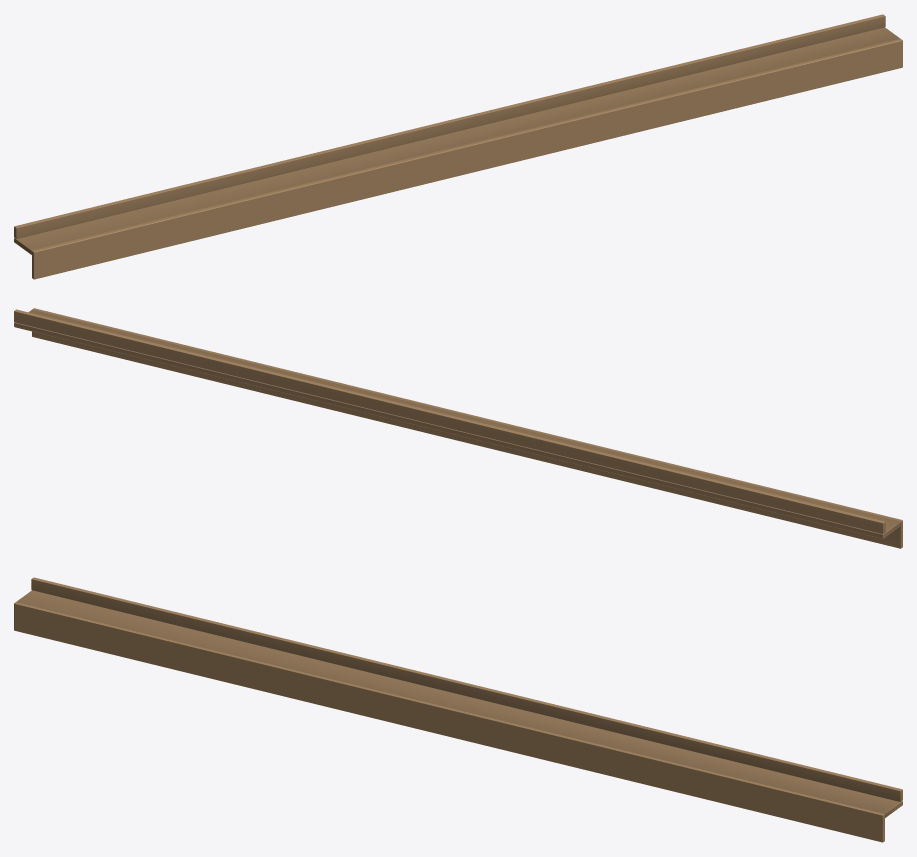
Rendered from light_g_cove_down.gltf.
The picture shows the model from 3 angles, top to bottom: view 1: azimuth 30°, elevation 25°; view 2: azimuth 150°, elevation 25°; view 3: azimuth 330°, elevation 25°; orthographic projection.
Parts seen in each view (by area): view 1: LightGCoveDown_Lip_NoCollide, LightGCoveDown_Board_NoCollide, LightGCoveDown_Cleat_NoCollide; view 2: LightGCoveDown_Cleat_NoCollide, LightGCoveDown_Board_NoCollide, LightGCoveDown_Lip_NoCollide; view 3: LightGCoveDown_Lip_NoCollide, LightGCoveDown_Board_NoCollide, LightGCoveDown_Cleat_NoCollide.
Boxes of the visible parts, left/top/right/bottom form: LightGCoveDown_Lip_NoCollide: left=32, top=39, right=902, bottom=279; LightGCoveDown_Board_NoCollide: left=14, top=27, right=900, bottom=254; LightGCoveDown_Cleat_NoCollide: left=14, top=14, right=885, bottom=238; LightGCoveDown_Cleat_NoCollide: left=14, top=309, right=885, bottom=533; LightGCoveDown_Board_NoCollide: left=14, top=310, right=900, bottom=538; LightGCoveDown_Lip_NoCollide: left=32, top=308, right=902, bottom=548; LightGCoveDown_Lip_NoCollide: left=14, top=602, right=884, bottom=842; LightGCoveDown_Board_NoCollide: left=16, top=590, right=902, bottom=817; LightGCoveDown_Cleat_NoCollide: left=31, top=577, right=902, bottom=801.
Bounding box in the file's own units: 4 × 0.1721 × 0.1601.
